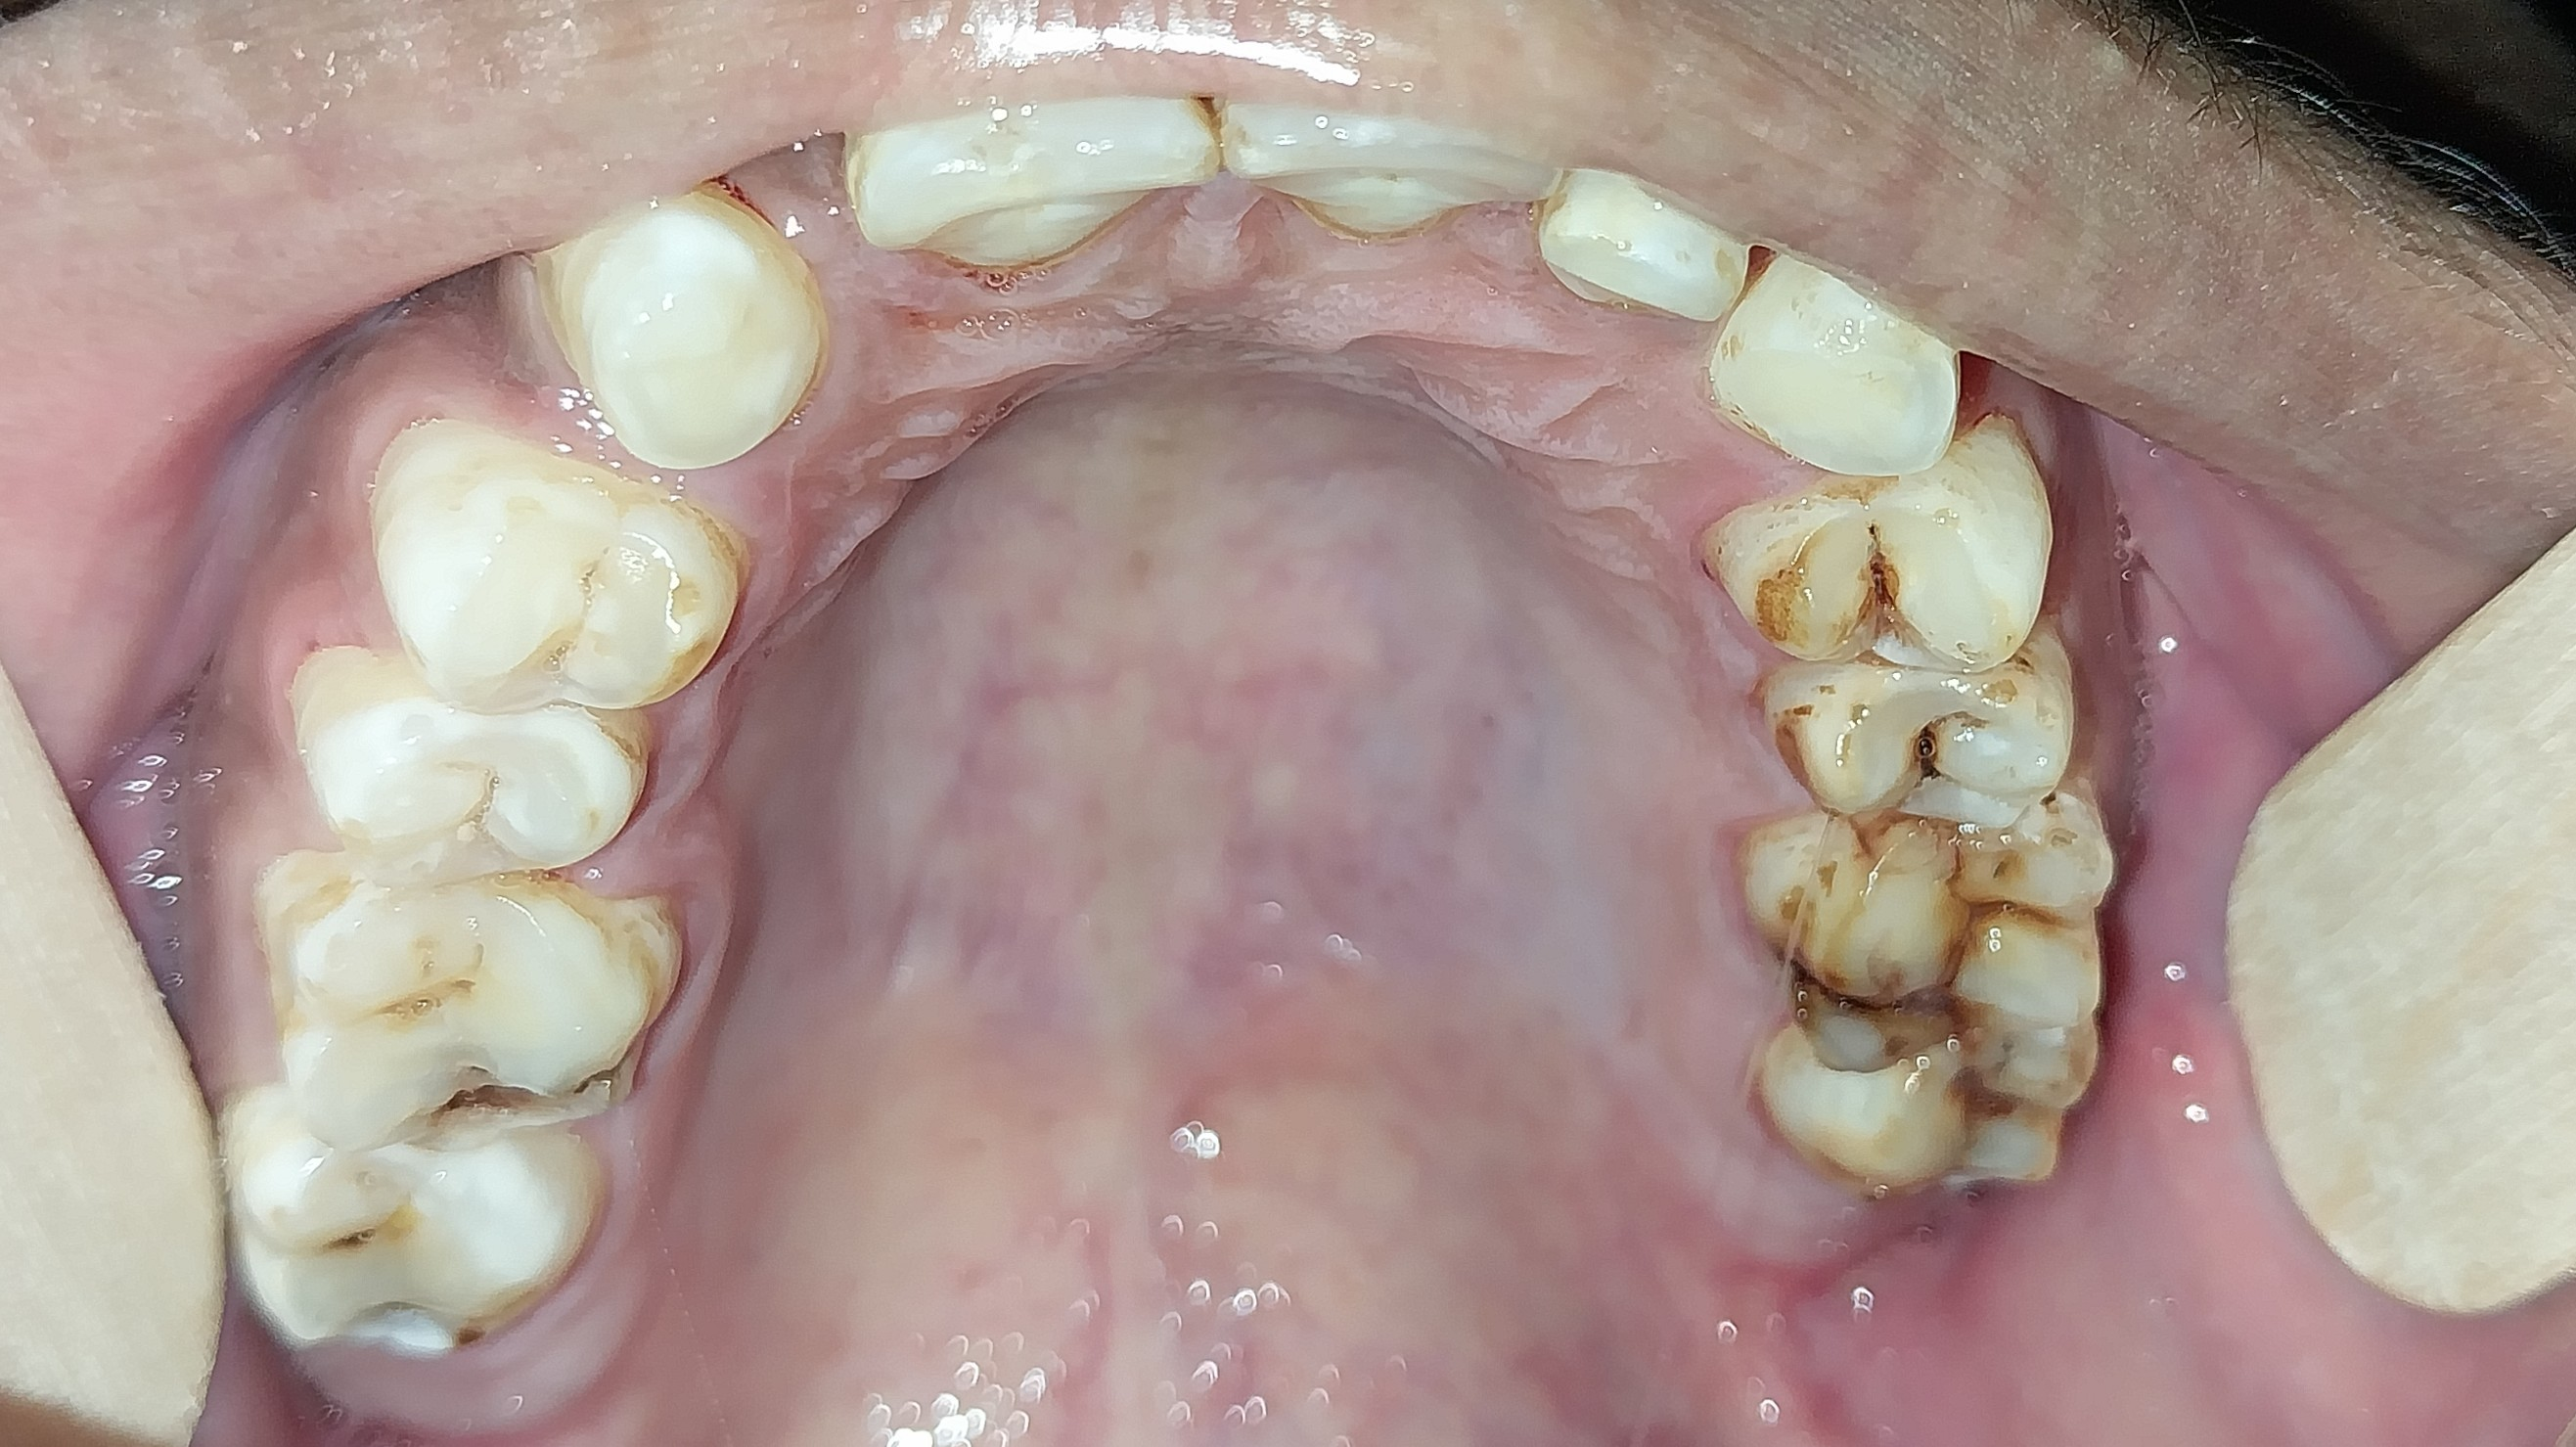D: (238, 855, 670, 1151), (209, 1096, 607, 1353), (1699, 424, 2083, 674), (1728, 808, 2104, 1054), (1754, 646, 2076, 829), (1771, 1017, 2102, 1186)
